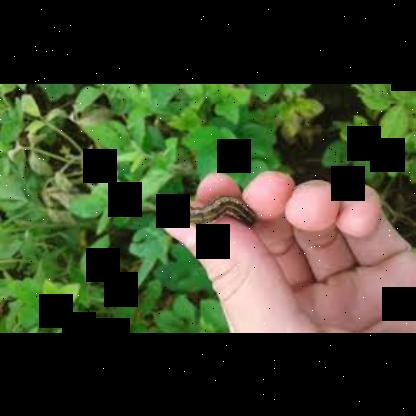oruga: (163, 188, 264, 228)
